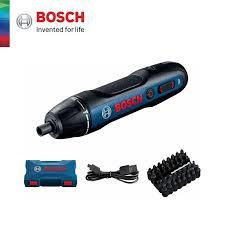screwdriver: (34, 59, 189, 139)
